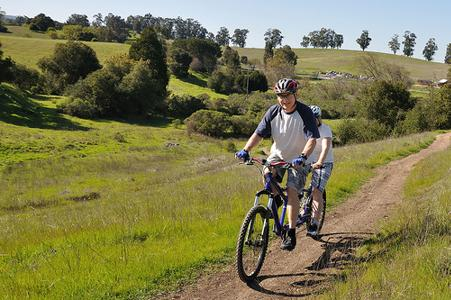person: (238, 76, 321, 252)
